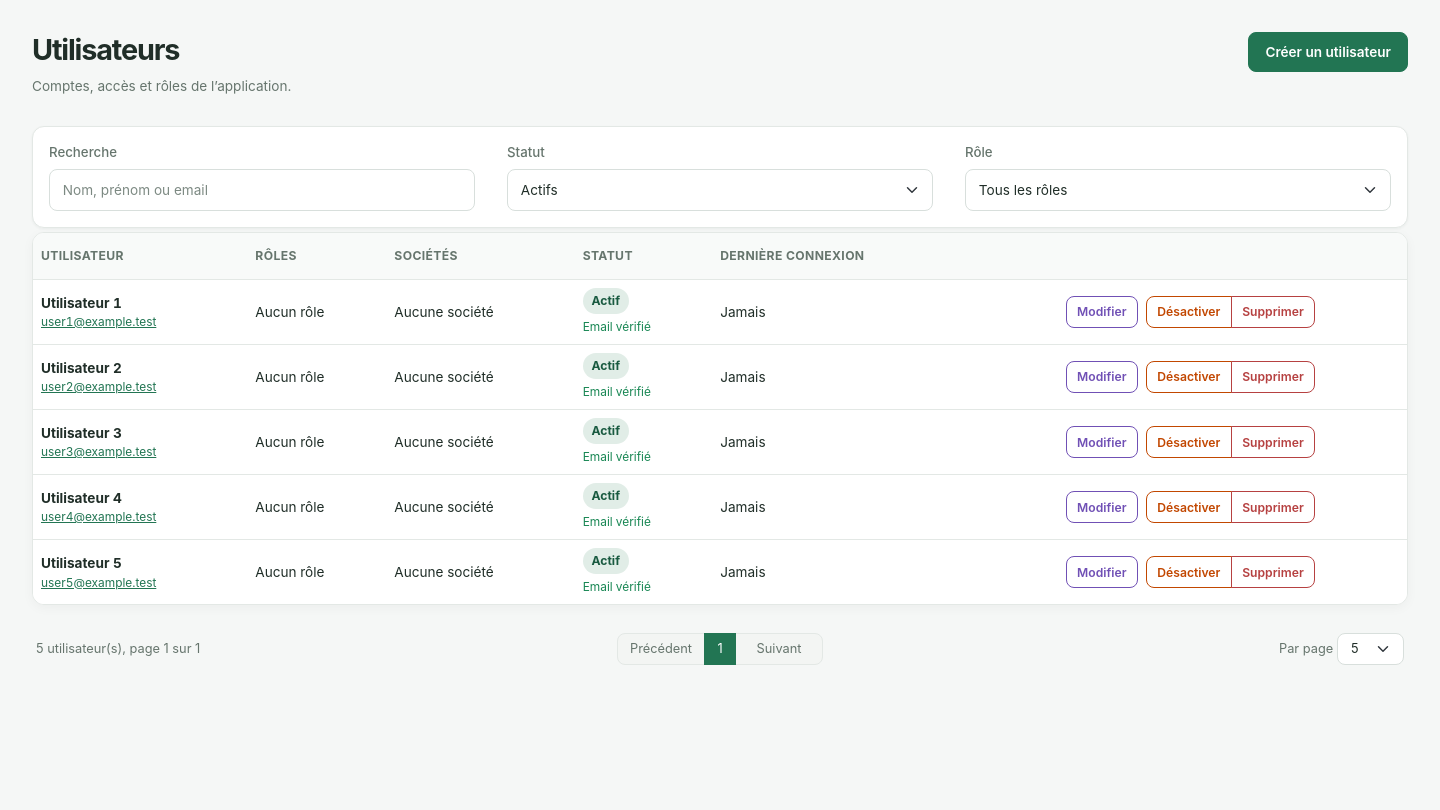
Test: administrator table pagination › shows active users by default and paginates all users after clearing the status
Expected: the link "user5@example.test" is shown, [41,574,156,590]
Expected: the text "user6@example.test" is not shown
Select "Tous les statuts" in the dropdown named "Filtrer par statut" at (720, 190), box [507,169,933,211]
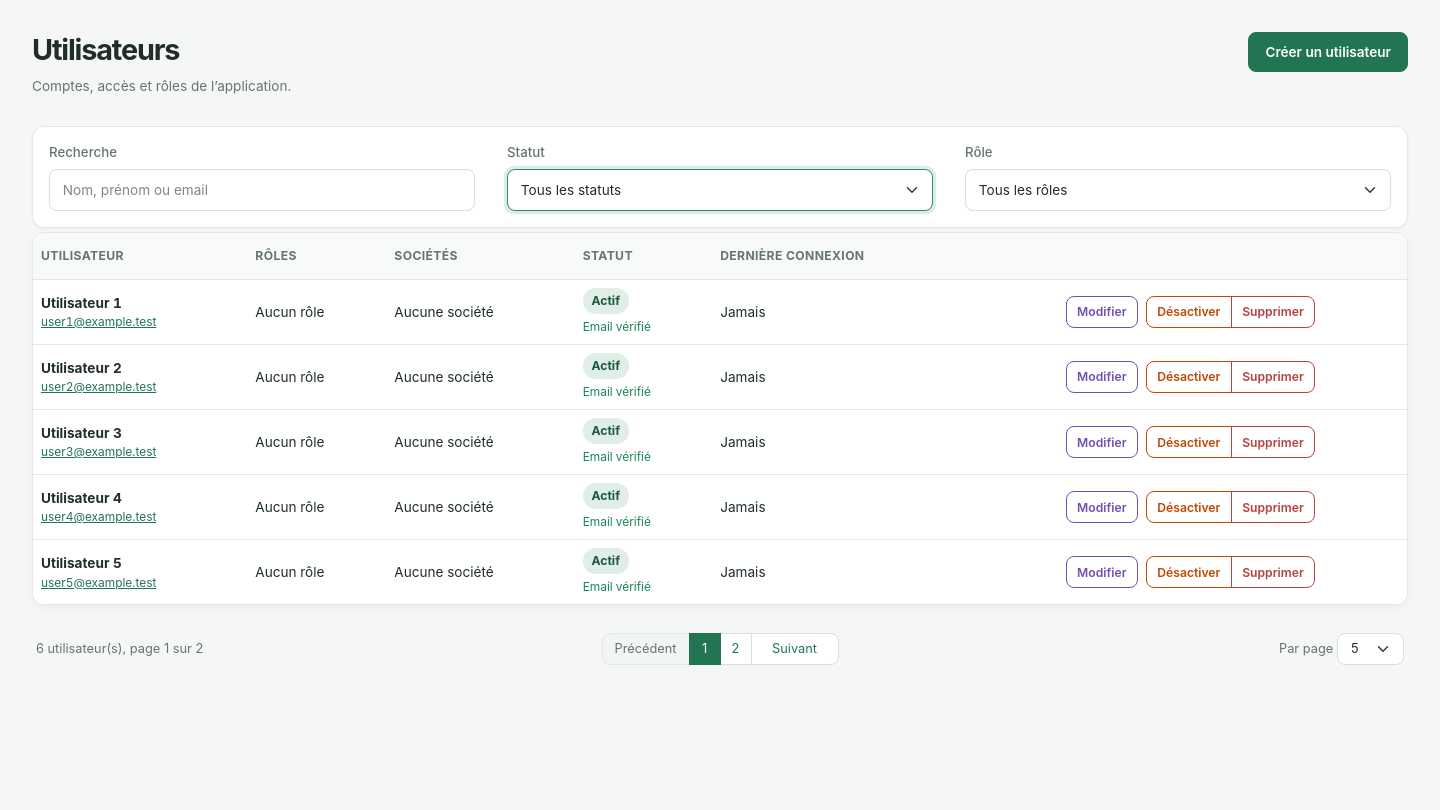
Expected: the text "user6@example.test" is not shown
Select "25" in the dropdown named "Nombre d’éléments par page" at (1371, 648), box [1337,632,1404,664]
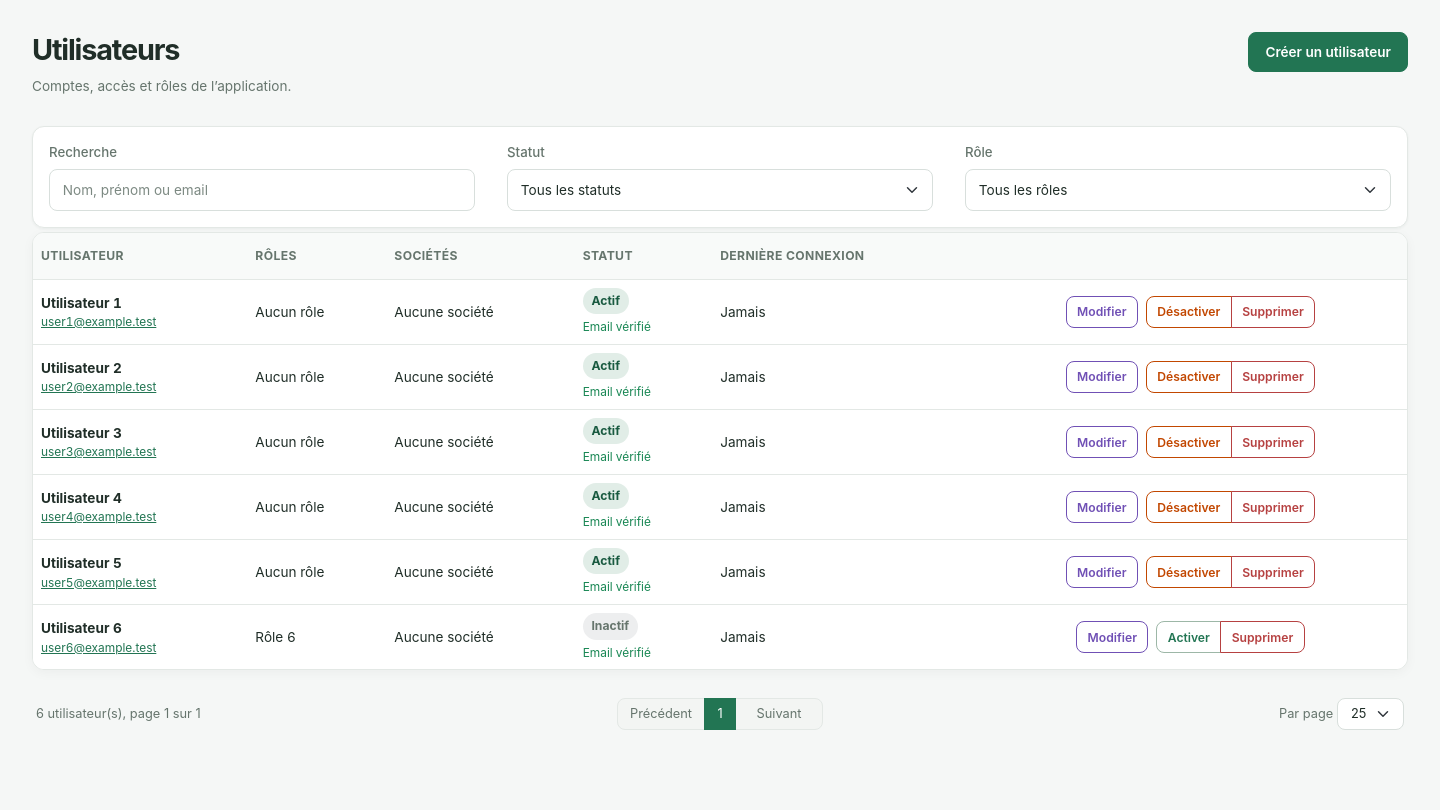
Expected: the link "user6@example.test" is shown, [41,640,156,655]
